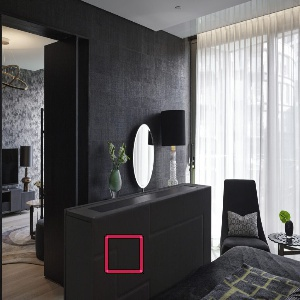square: (103, 234, 145, 275)
